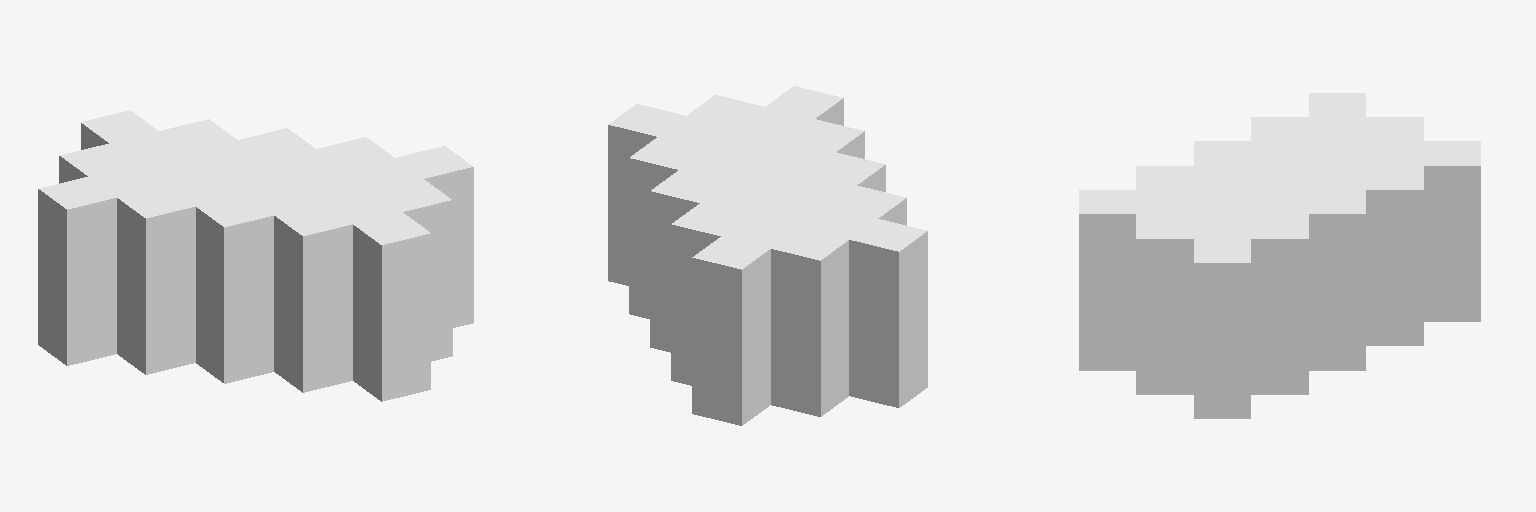
The model's file is cubeland1-29.obj.
3 views of the same model, side by side, from view 1: azimuth 30°, elevation 25°; view 2: azimuth 150°, elevation 25°; view 3: azimuth 270°, elevation 25° (orthographic).
Visible parts, largest first — view 1: object 1; view 2: object 1; view 3: object 1.
Boxes of the visible parts, box(x1,y1,x2,y2) form: object 1: box(38, 110, 473, 401); object 1: box(608, 86, 927, 425); object 1: box(1079, 93, 1480, 418).
Bounding box in the file's own units: 0.7 × 0.3 × 0.7.